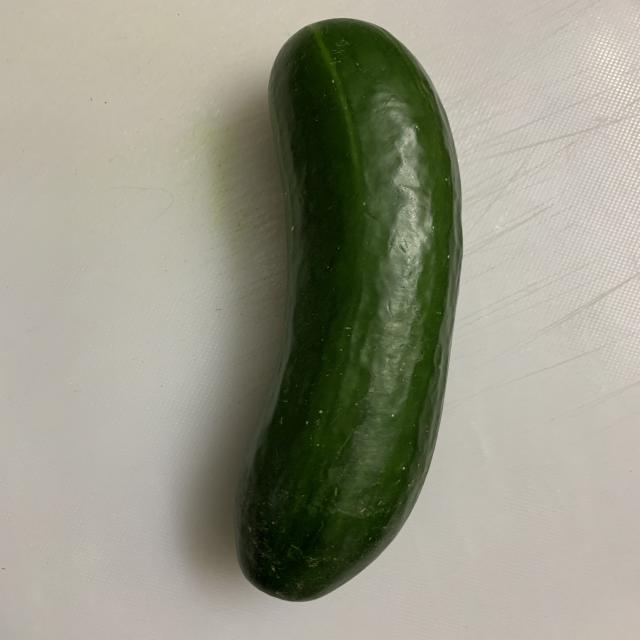Cucumber: (235, 23, 460, 606)
